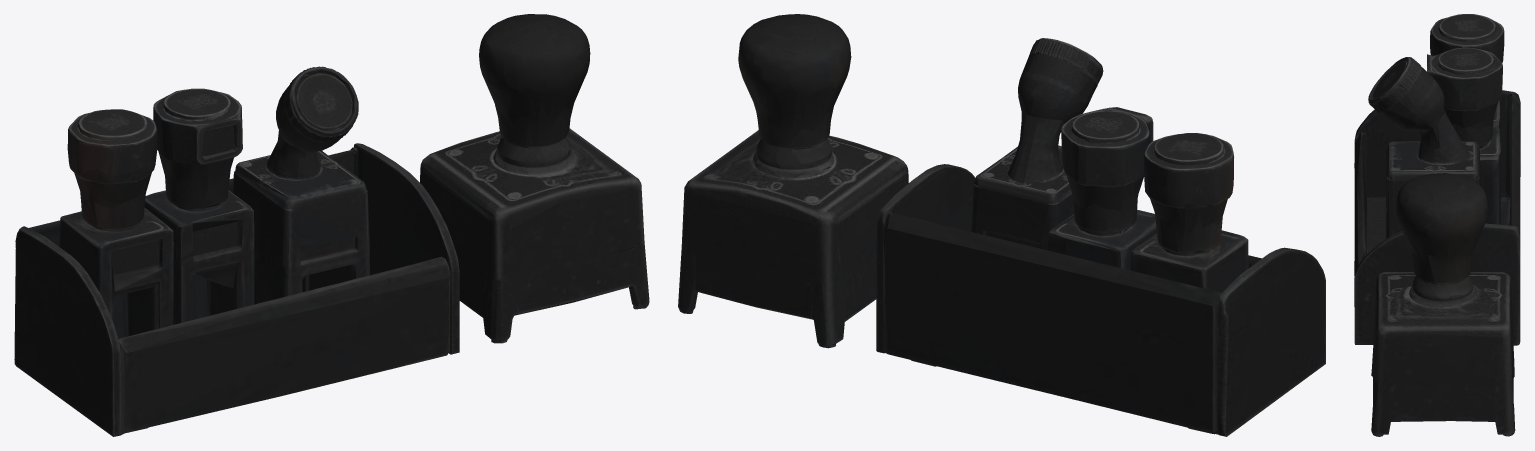
File: timbri_N.glb
3 renders of one model, left to right at view 1: azimuth 30°, elevation 25°; view 2: azimuth 150°, elevation 25°; view 3: azimuth 270°, elevation 25°, orthographic. The views are drawn at different scales.
Visible parts, largest first — view 1: Mesh_0; view 2: Mesh_0; view 3: Mesh_0.
Boxes of the visible parts, x1,y1,x2,y2 form: Mesh_0: (14,14,649,436); Mesh_0: (678,14,1325,436); Mesh_0: (1354,14,1520,436).
Size of the model in its own units: 0.2 by 0.104 by 0.0629.
1 material, 1 textured.
